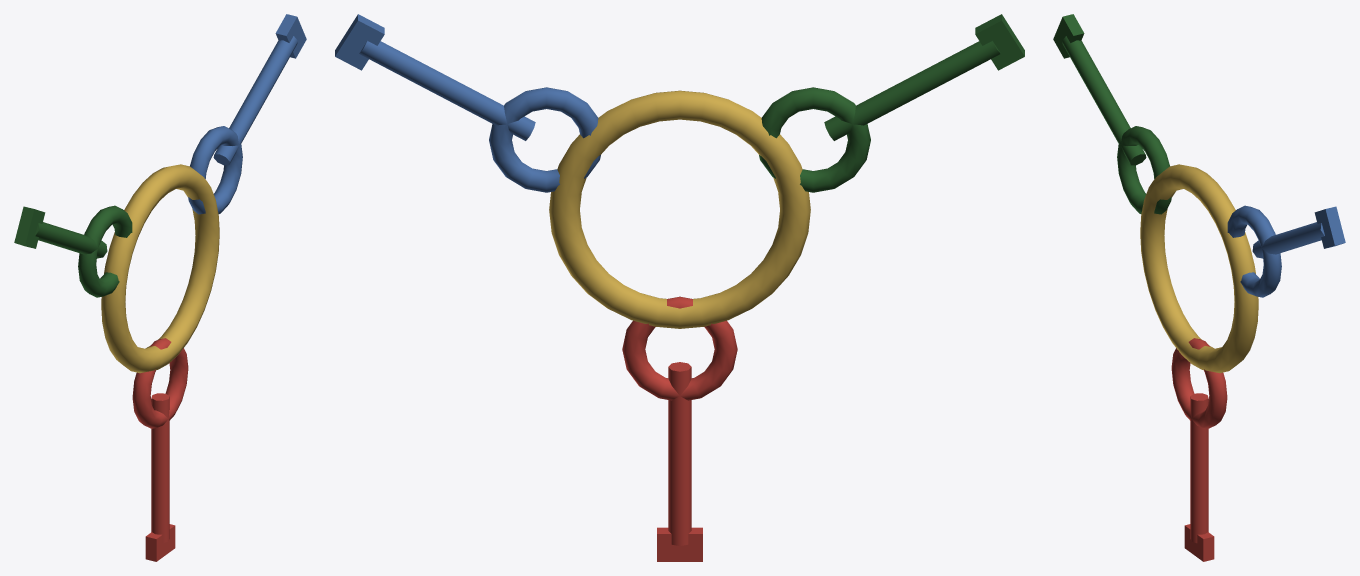
File: keys.glb
3 views of the same model, side by side, from view 1: azimuth 30°, elevation 25°; view 2: azimuth 150°, elevation 25°; view 3: azimuth 270°, elevation 25° (orthographic). The views are drawn at different scales.
Bounding box in the file's own units: 0.786 × 0.776 × 0.4653.
